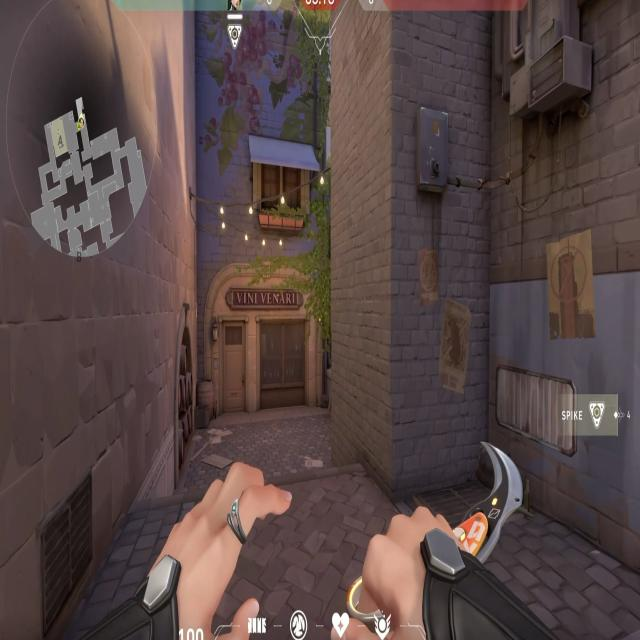Wine: (187, 218, 353, 471)
